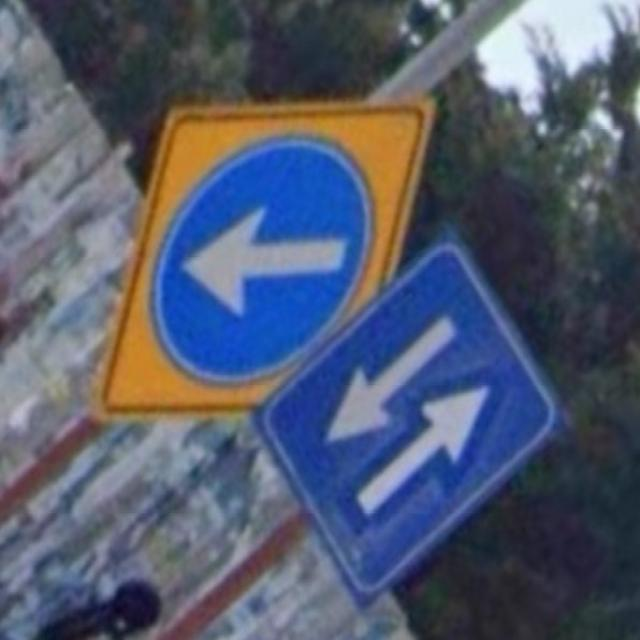Turn Left: (153, 136, 381, 379)
